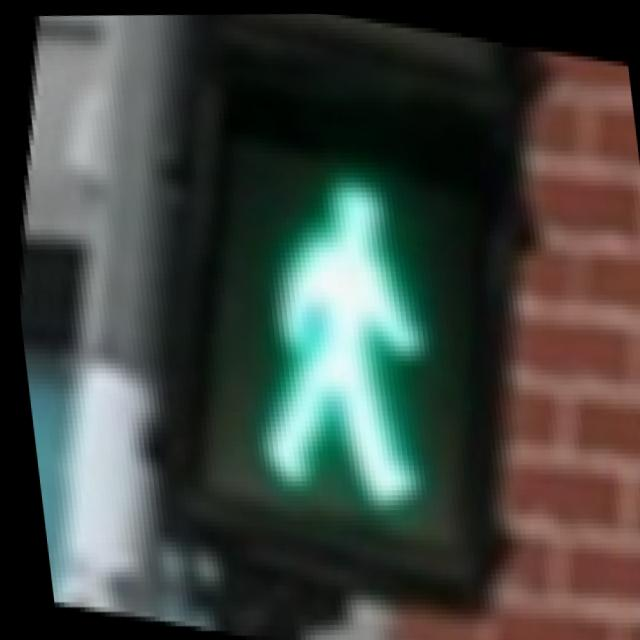green_light: (110, 69, 547, 579)
